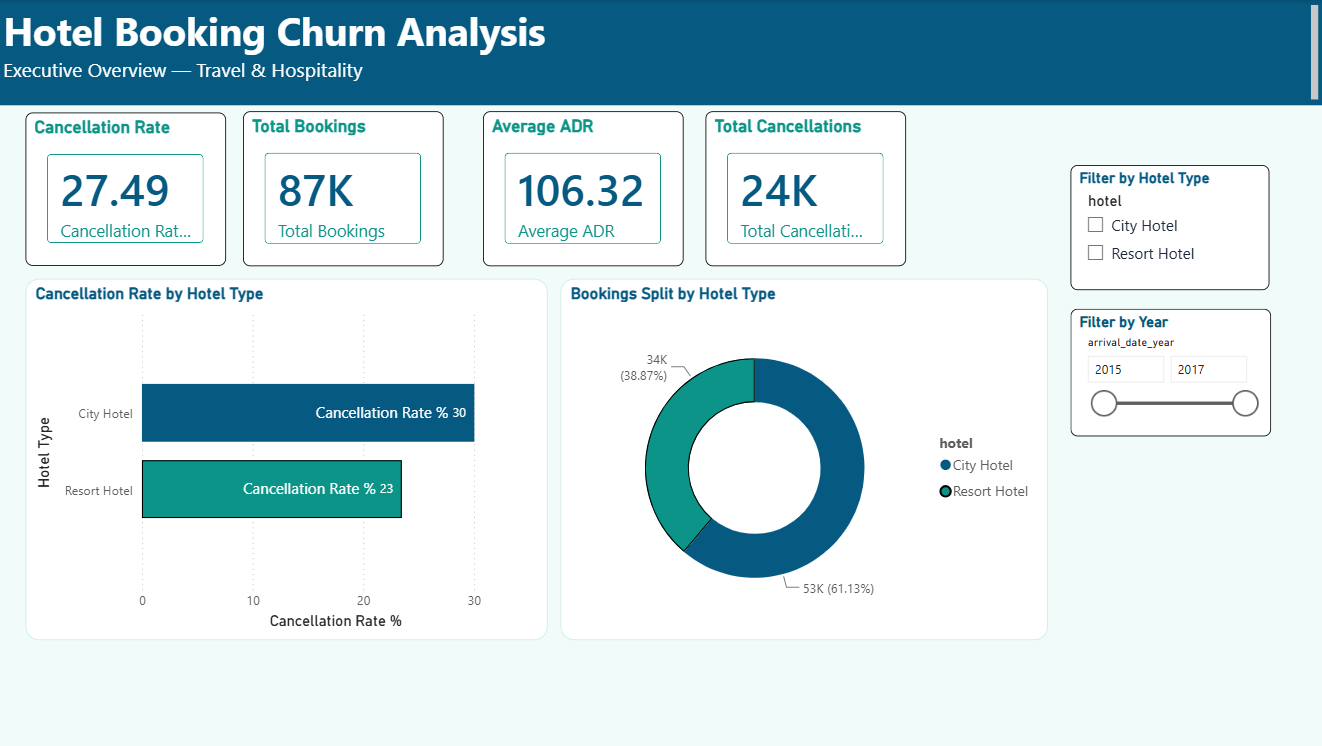

This screenshot's page, from the dashboard's own definition file:
{"tool":"powerbi","page":{"name":"Overview","canvas":[1280,720],"ordinal":0},"visuals":[{"type":"cardVisual","title":"Total Bookings","fields":{"Data":["hotel_bookings_cleaned.Total Bookings"]},"box":[236,107,193.5,149.6],"z":0},{"type":"cardVisual","title":"Cancellation Rate","fields":{"Data":["hotel_bookings_cleaned.Cancellation Rate %"]},"box":[26.1,108.4,193.5,148.2],"z":1000},{"type":"cardVisual","title":" Average ADR","fields":{"Data":["hotel_bookings_cleaned.Average ADR"]},"box":[467.9,107,193.5,149.6],"z":2000},{"type":"clusteredBarChart","title":"Cancellation Rate by Hotel Type","fields":{"Category":["hotel_bookings_cleaned.hotel"],"Y":["hotel_bookings_cleaned.Cancellation Rate %"]},"box":[26.1,269,503.6,348.5],"z":3000},{"type":"donutChart","title":"Bookings Split by Hotel Type","fields":{"Y":["hotel_bookings_cleaned.Total Bookings"],"Category":["hotel_bookings_cleaned.hotel"]},"box":[543.4,269,470.7,348.5],"z":4000},{"type":"slicer","title":"Filter by Hotel Type","fields":{"Values":["hotel_bookings_cleaned.hotel"]},"box":[1034.7,159.2,192.1,120.8],"z":5000},{"type":"slicer","title":"Filter by Year","fields":{"Values":["hotel_bookings_cleaned.arrival_date_year"]},"box":[1034.7,297.8,193.5,123.5],"z":6000},{"type":"textbox","box":[0,0,1280.3,101.5],"z":7000},{"type":"cardVisual","title":"Total Cancellations","fields":{"Data":["hotel_bookings_cleaned.Total Cancellations"]},"box":[683.4,107,193.5,149.6],"z":8000}]}

Visuals, with their boxes in screenshot pixels (x1, y1, x2, y2), scaled from the page's 1280x720 canvas onto the 1322x746 screenshot:
"Total Bookings" cardVisual: x1=244, y1=111, x2=444, y2=266
"Cancellation Rate" cardVisual: x1=27, y1=112, x2=227, y2=266
" Average ADR" cardVisual: x1=483, y1=111, x2=683, y2=266
"Cancellation Rate by Hotel Type" clusteredBarChart: x1=27, y1=279, x2=547, y2=640
"Bookings Split by Hotel Type" donutChart: x1=561, y1=279, x2=1047, y2=640
"Filter by Hotel Type" slicer: x1=1069, y1=165, x2=1267, y2=290
"Filter by Year" slicer: x1=1069, y1=309, x2=1269, y2=437
textbox: x1=0, y1=0, x2=1321, y2=105
"Total Cancellations" cardVisual: x1=706, y1=111, x2=906, y2=266
